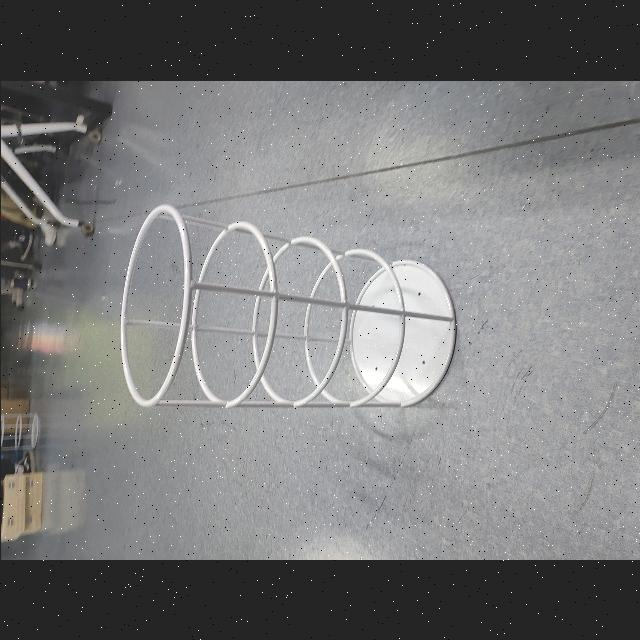S: (113, 201, 460, 415)
